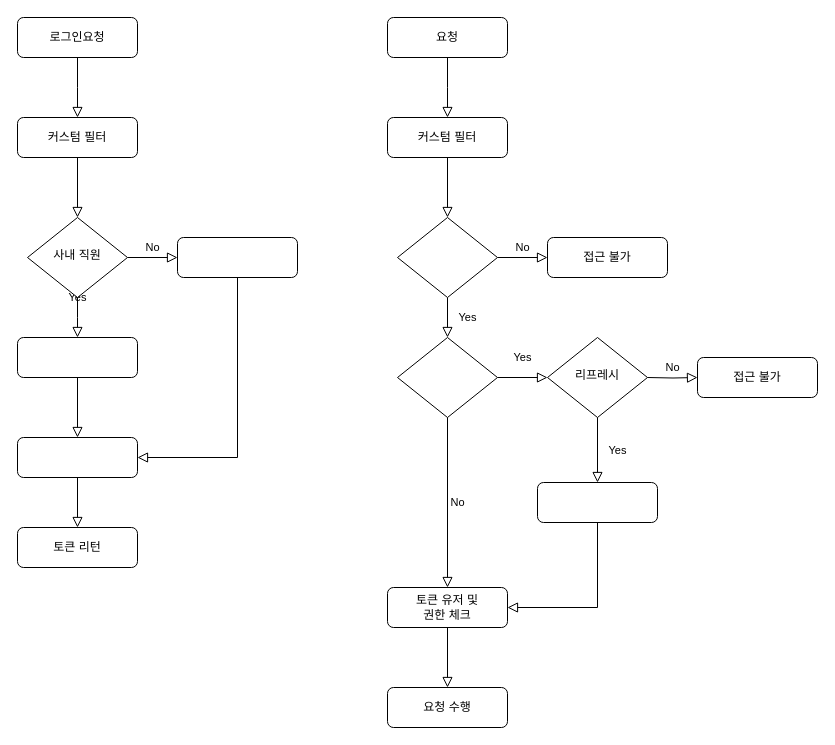
Image size: 835x745. Some labels were removed from this diagram. The centre of each missing label's shape, as x and y in pixels:
"DB" goes at [237,257].
"JWT 토큰생성" goes at [77,457].
"LDAP" goes at [77,357].
"토큰" goes at [447,257].
"토큰 갱신" goes at [597,502].
"토큰 만료" goes at [447,377].
